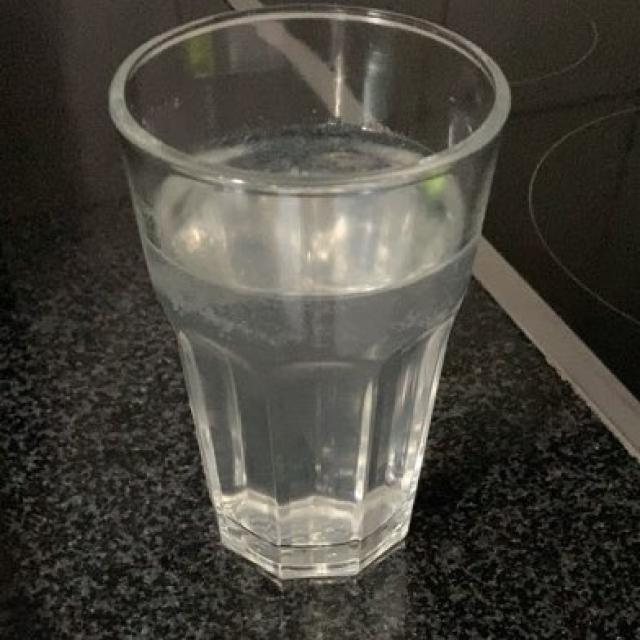glucose-drink-50g: (153, 120, 468, 562)
